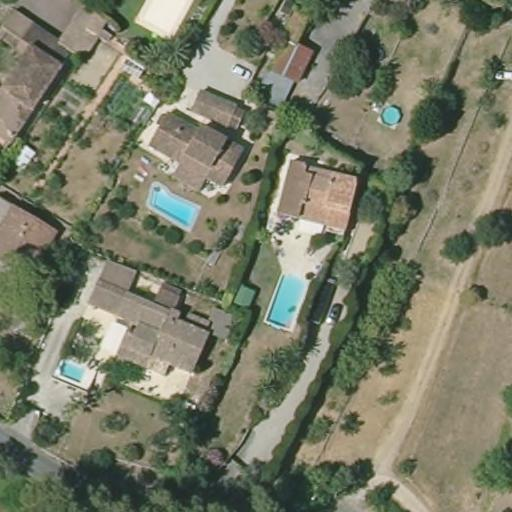pool: (262, 264, 306, 336), (143, 179, 203, 231), (50, 350, 97, 389), (377, 98, 401, 130)
